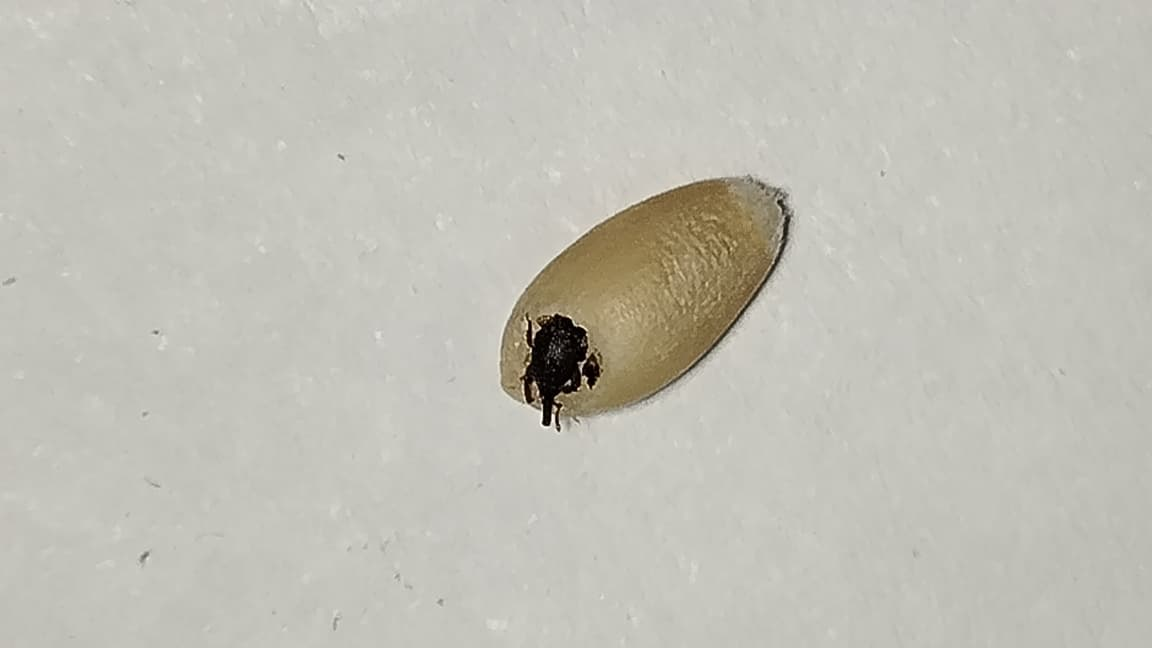damage: (500, 176, 788, 423)
insectdamage: (519, 312, 600, 434)
